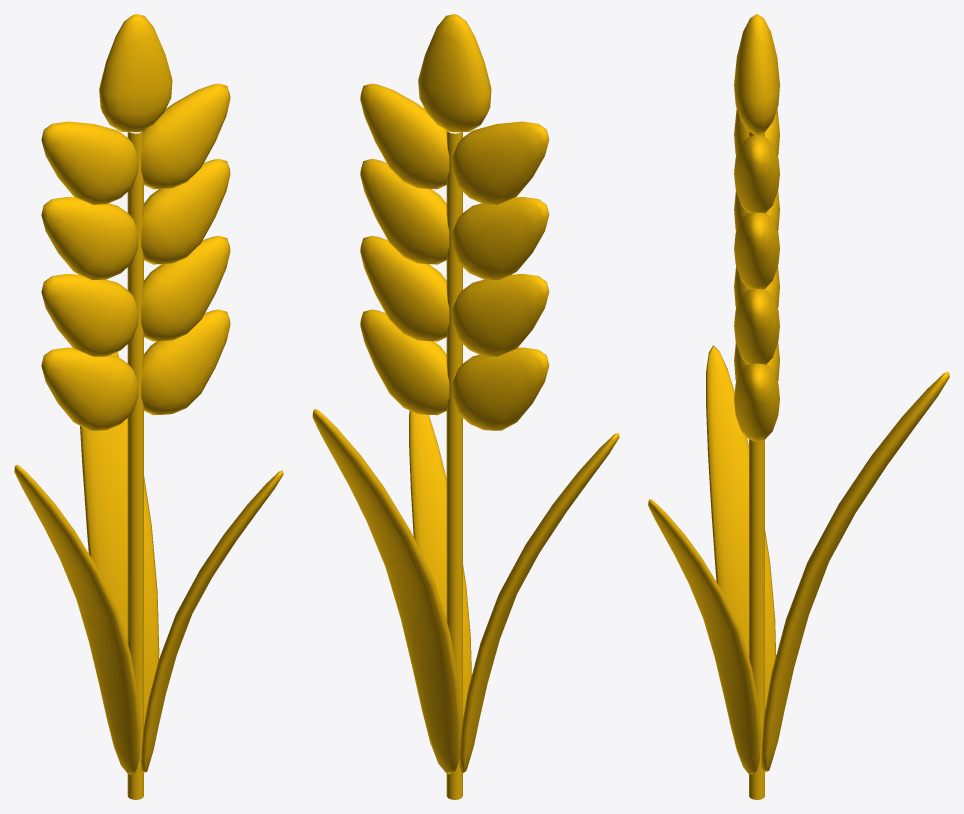
File: Farm_8_Wheat_Ear_1.glb
3 renders of one model, left to right at view 1: azimuth 30°, elevation 25°; view 2: azimuth 150°, elevation 25°; view 3: azimuth 270°, elevation 25°, orthographic.
Visible parts, largest first — view 1: Farm_8_Wheat_Ear_1; view 2: Farm_8_Wheat_Ear_1; view 3: Farm_8_Wheat_Ear_1.
Boxes of the visible parts, x1,y1,x2,y2 form: Farm_8_Wheat_Ear_1: [14, 14, 283, 799]; Farm_8_Wheat_Ear_1: [312, 14, 619, 799]; Farm_8_Wheat_Ear_1: [648, 14, 949, 799].
Bounding box in the file's own units: 0.5061 × 1.6 × 0.5583.
1 material, 1 textured.
